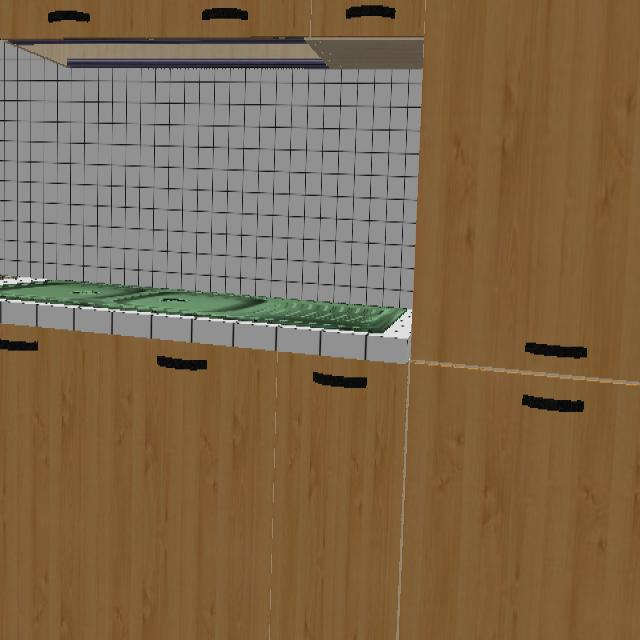countertop: (3, 303, 408, 359)
sink: (0, 281, 406, 333)
